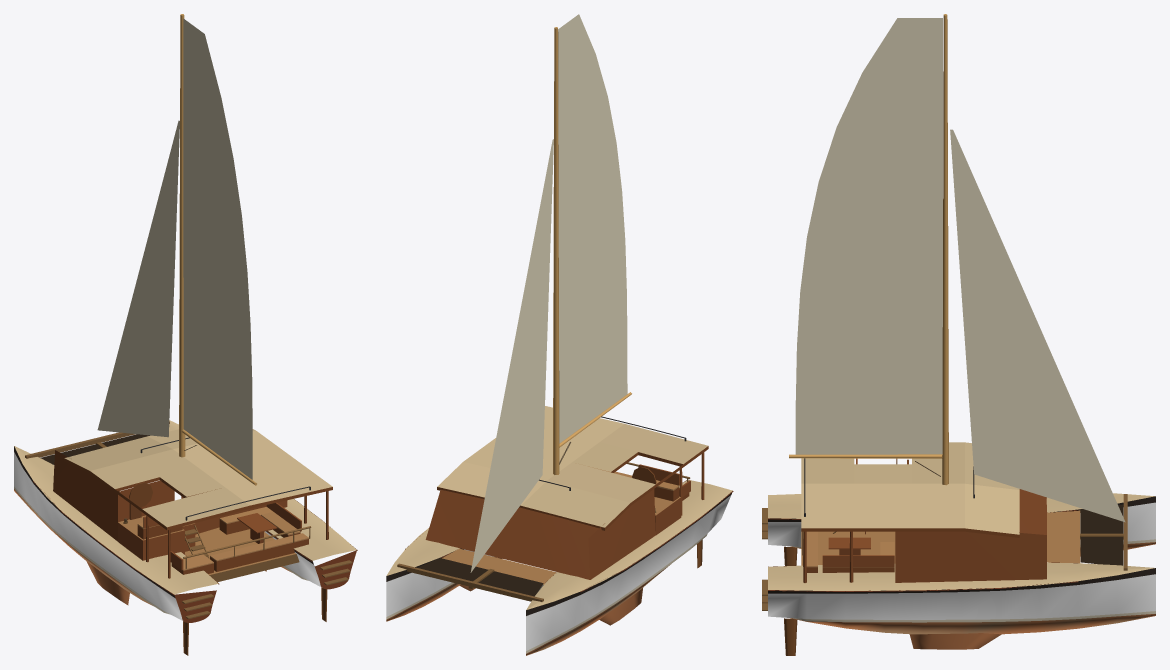
The model's file is catamaran.far.glb.
3 renders of one model, left to right at view 1: azimuth 30°, elevation 25°; view 2: azimuth 150°, elevation 25°; view 3: azimuth 270°, elevation 25°, orthographic. The views are drawn at different scales.
Parts seen in each view (by area): view 1: hull, sail, jib, mast, daggerboard; view 2: hull, sail, jib, mast, daggerboard; view 3: hull, sail, jib, mast, daggerboard, boom.
Part boxes in pixels (<box>): hull: <box>14,420,357,622</box>; sail: <box>183,18,252,479</box>; jib: <box>97,120,179,437</box>; mast: <box>179,14,185,457</box>; daggerboard: <box>87,562,266,605</box>; hull: <box>386,406,733,655</box>; sail: <box>558,14,627,443</box>; jib: <box>470,139,553,572</box>; mast: <box>553,27,559,474</box>; daggerboard: <box>459,557,642,625</box>; hull: <box>762,442,1155,634</box>; sail: <box>795,18,942,454</box>; jib: <box>950,129,1125,522</box>; mast: <box>942,14,948,485</box>; daggerboard: <box>909,633,1001,649</box>; boom: <box>789,454,942,458</box>.
Size of the model in its own units: 7.76 by 22.03 by 13.
